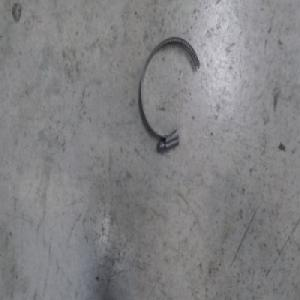AdjustableClamp: (138, 35, 200, 154)
